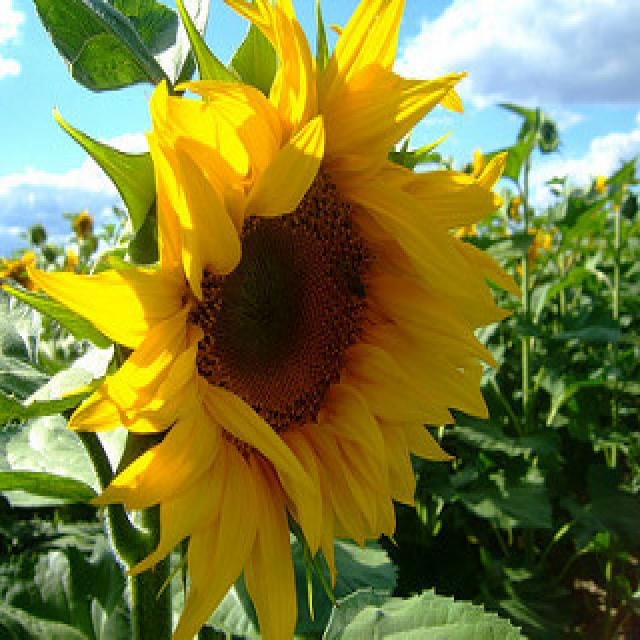sunflower: (19, 0, 525, 640)
